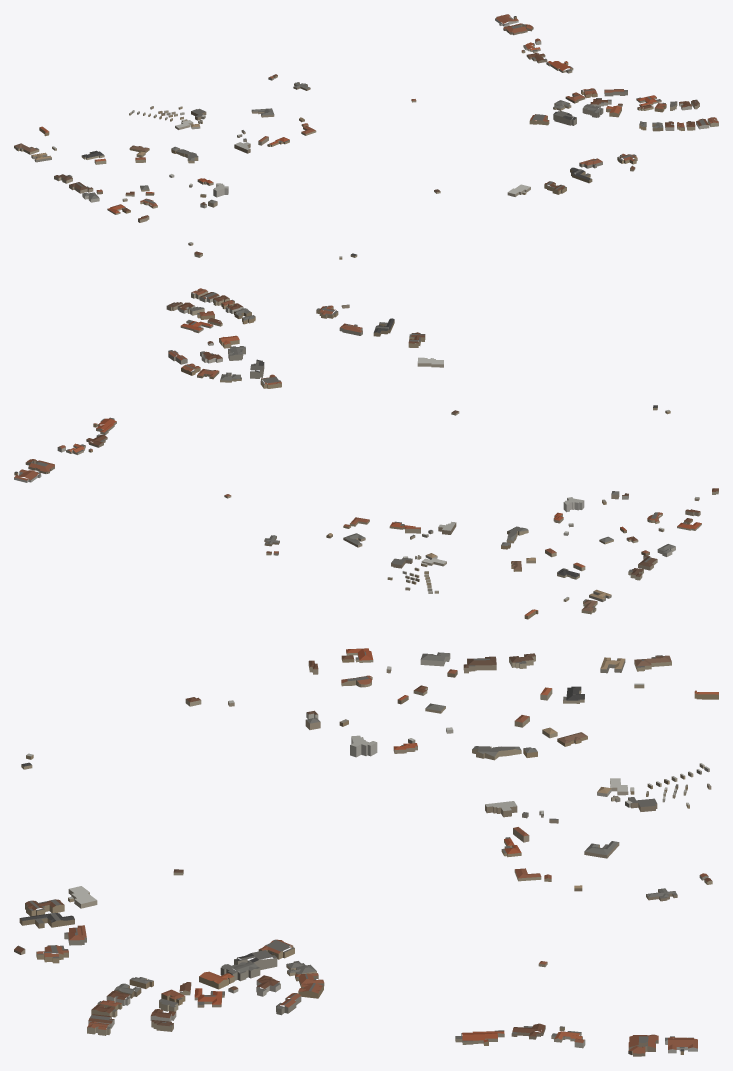
3 renders of one model, top to bottom at view 1: azimuth 30°, elevation 25°; view 2: azimuth 150°, elevation 25°; view 3: azimuth 270°, elevation 25°, orthographic. The views are drawn at different scales.
Visible parts, largest first — view 1: buildings_r2_c0_lod1; view 2: buildings_r2_c0_lod1; view 3: buildings_r2_c0_lod1.
Part boxes in pixels (bbox=[...]): buildings_r2_c0_lod1: bbox=[14, 14, 718, 259]; buildings_r2_c0_lod1: bbox=[14, 288, 718, 619]; buildings_r2_c0_lod1: bbox=[14, 648, 718, 1056].
Size of the model in its own units: 1126 by 101 by 799.
